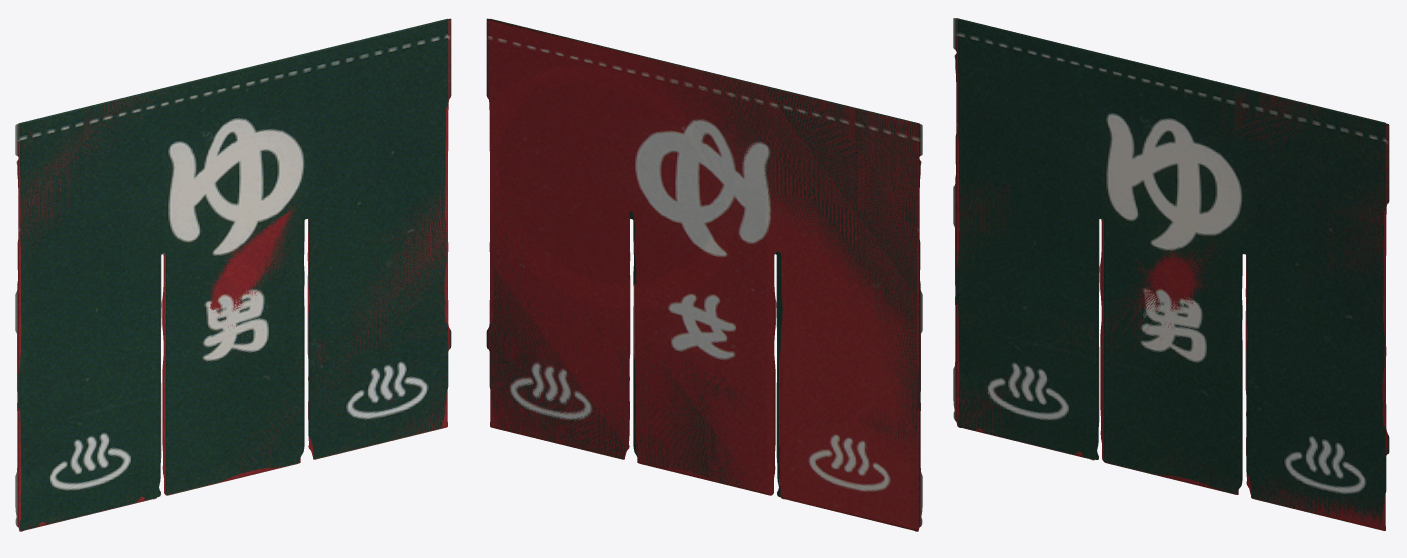
File: 3-1_banner.FBX
The picture shows the model from 3 angles, left to right: view 1: azimuth 30°, elevation 25°; view 2: azimuth 150°, elevation 25°; view 3: azimuth 330°, elevation 25°; orthographic projection.
Parts seen in each view (by area): view 1: banner_Man, banner_Girl; view 2: banner_Girl, banner_Man; view 3: banner_Man, banner_Girl.
Part boxes in pixels (x1,y1,x2,y2): banner_Man: (17, 18, 448, 530); banner_Girl: (15, 18, 451, 531); banner_Girl: (486, 18, 922, 531); banner_Man: (489, 18, 920, 497); banner_Man: (955, 18, 1386, 526); banner_Girl: (953, 18, 1389, 530).
Size of the model in its own units: 6.65 by 6.09 by 1.57e-07.
